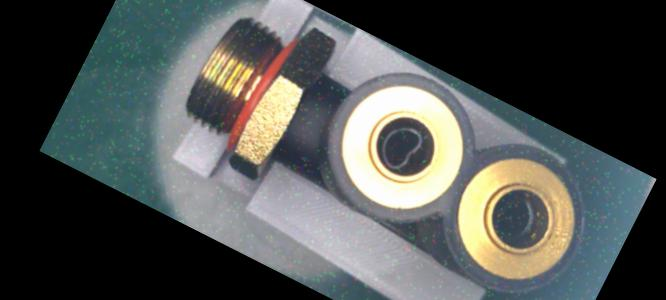joint line: (295, 105, 330, 129)
off-centered: (363, 111, 434, 185), (480, 182, 549, 252)
